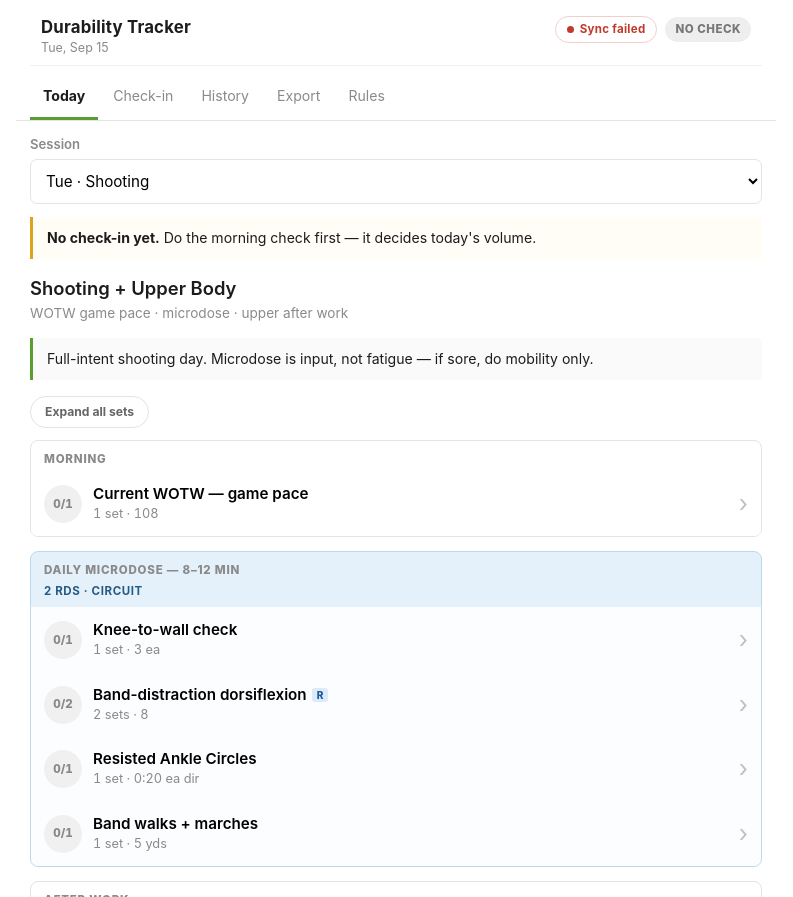
Test: check-in context › explains why the next-morning reading is the one that counts
The width and height of the screenshot is (793, 897).
Click the button "Check-in". click: (143, 98)
box: [100,76,186,120]
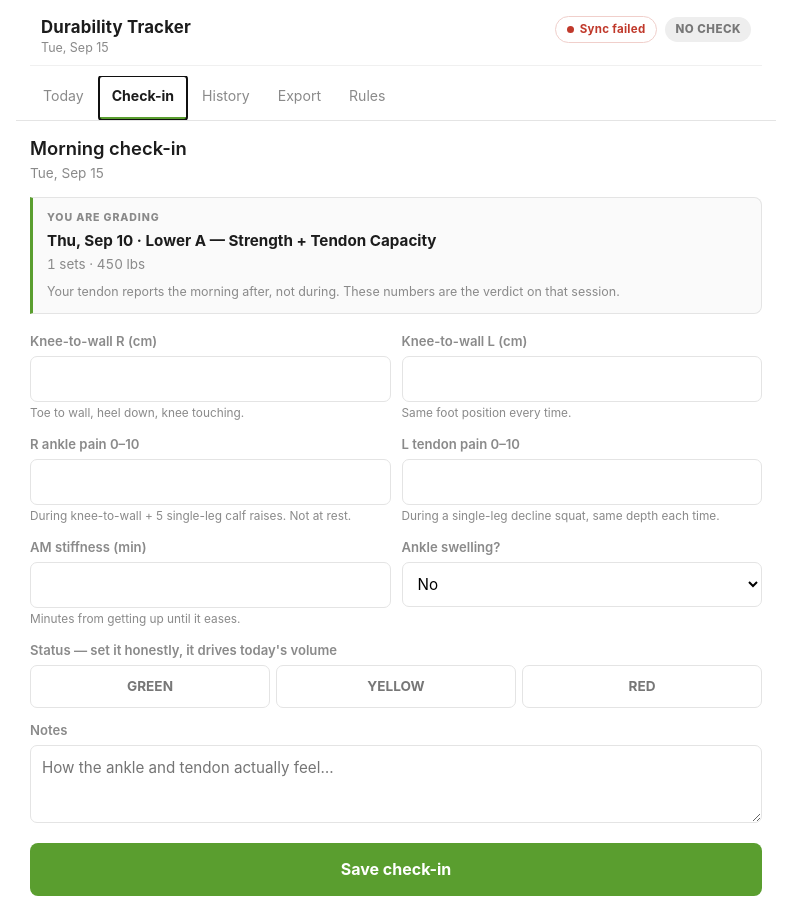
Result: the element with class "grading" shows "reports the morning after, not during" at [47,284,620,299]
